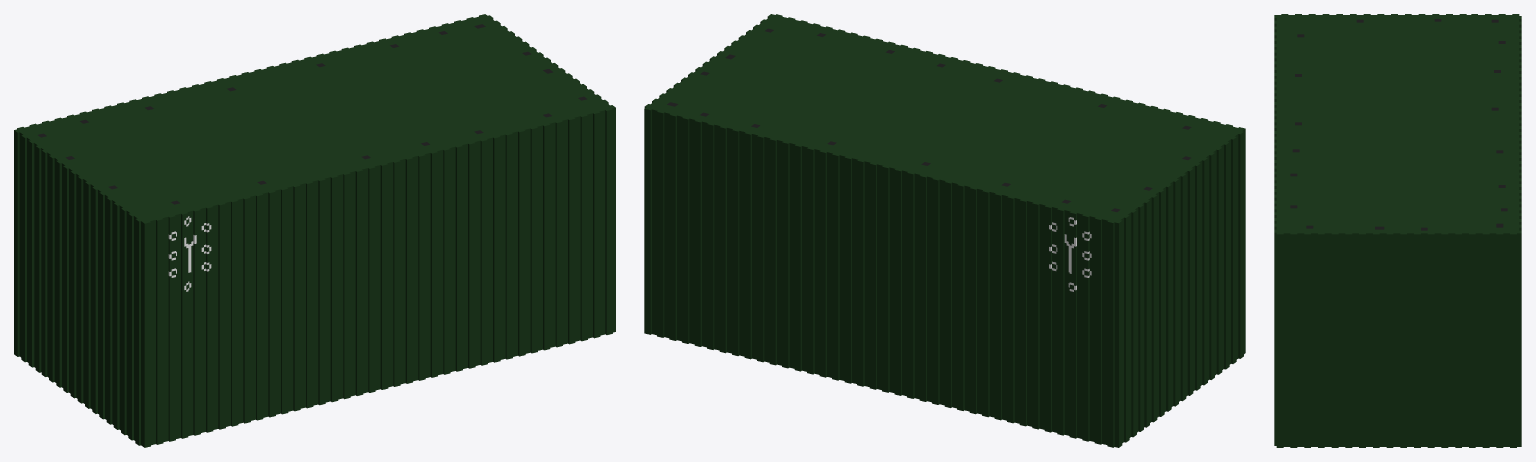
The model's file is инструменты.obj.
The picture shows the model from 3 angles, left to right: view 1: azimuth 30°, elevation 25°; view 2: azimuth 150°, elevation 25°; view 3: azimuth 270°, elevation 25°; orthographic projection. The views are drawn at different scales.
Size of the model in its own units: 22.8 by 10.3 by 10.8.
Materials: 1 (1 with a texture image).
